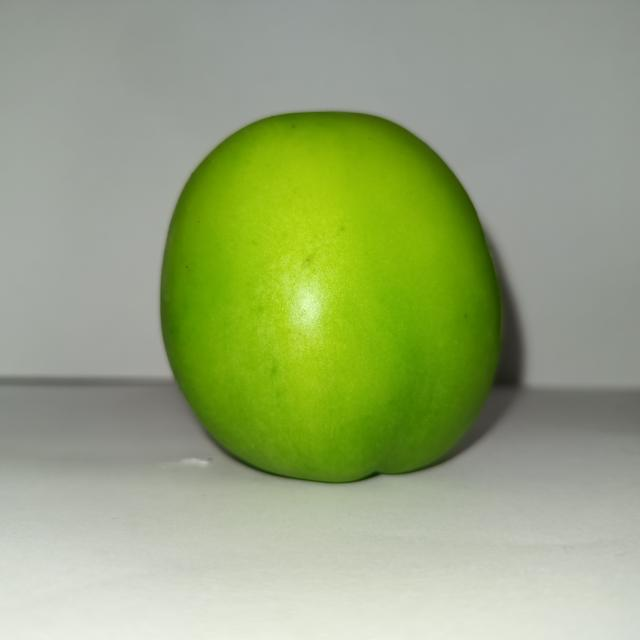Red: (157, 108, 504, 484)
